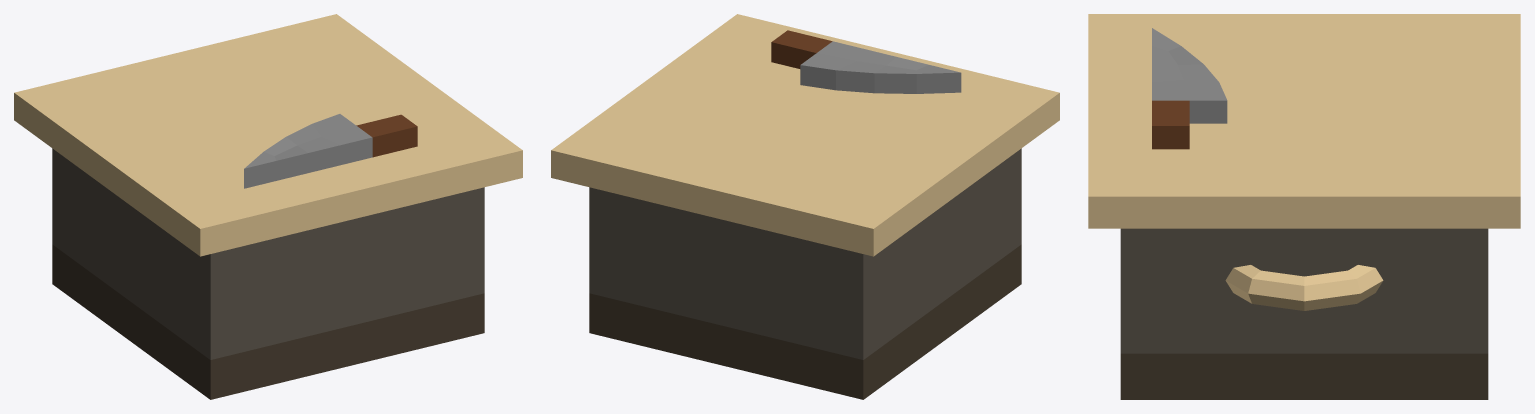
File: table.fbx
3 renders of one model, left to right at view 1: azimuth 30°, elevation 25°; view 2: azimuth 150°, elevation 25°; view 3: azimuth 270°, elevation 25°, orthographic. The views are drawn at different scales.
Parts seen in each view (by area): view 1: table, knife; view 2: table, knife; view 3: table, knife, holder.
Boxes of the visible parts, left/top/right/bottom form: table: left=14, top=14, right=522, bottom=399; knife: left=244, top=114, right=417, bottom=188; table: left=551, top=14, right=1059, bottom=399; knife: left=771, top=30, right=961, bottom=93; table: left=1088, top=14, right=1520, bottom=399; knife: left=1152, top=28, right=1227, bottom=149; holder: left=1225, top=265, right=1383, bottom=310.
Size of the model in its own units: 110 by 65.81 by 106.
